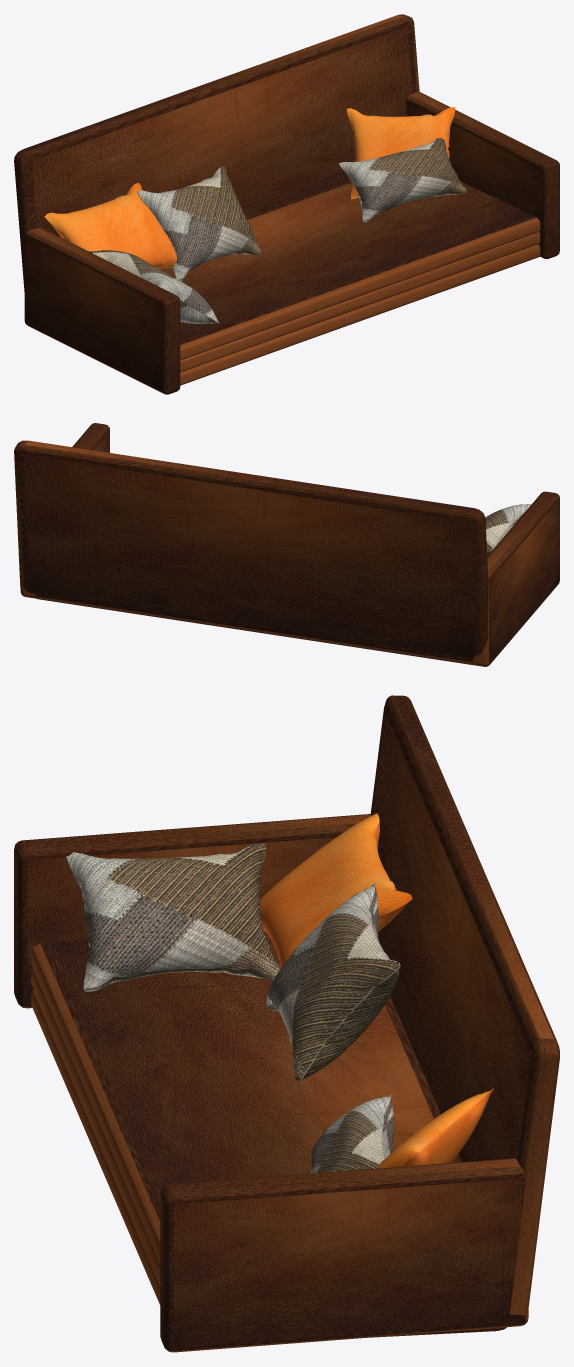
File: sillonDepa.obj
3 views of the same model, one above another, from view 1: azimuth 30°, elevation 25°; view 2: azimuth 150°, elevation 25°; view 3: azimuth 270°, elevation 25° (orthographic). The views are drawn at different scales.
Parts seen in each view (by area): view 1: sillonDepa_pCube11; view 2: sillonDepa_pCube11; view 3: sillonDepa_pCube11.
Part boxes in pixels (x1,y1,x2,y2): sillonDepa_pCube11: [14, 14, 559, 394]; sillonDepa_pCube11: [14, 423, 559, 666]; sillonDepa_pCube11: [14, 695, 559, 1352].
Bounding box in the file's own units: 18.3 × 6.35 × 10.91.
Materials: 3 (3 with a texture image).
